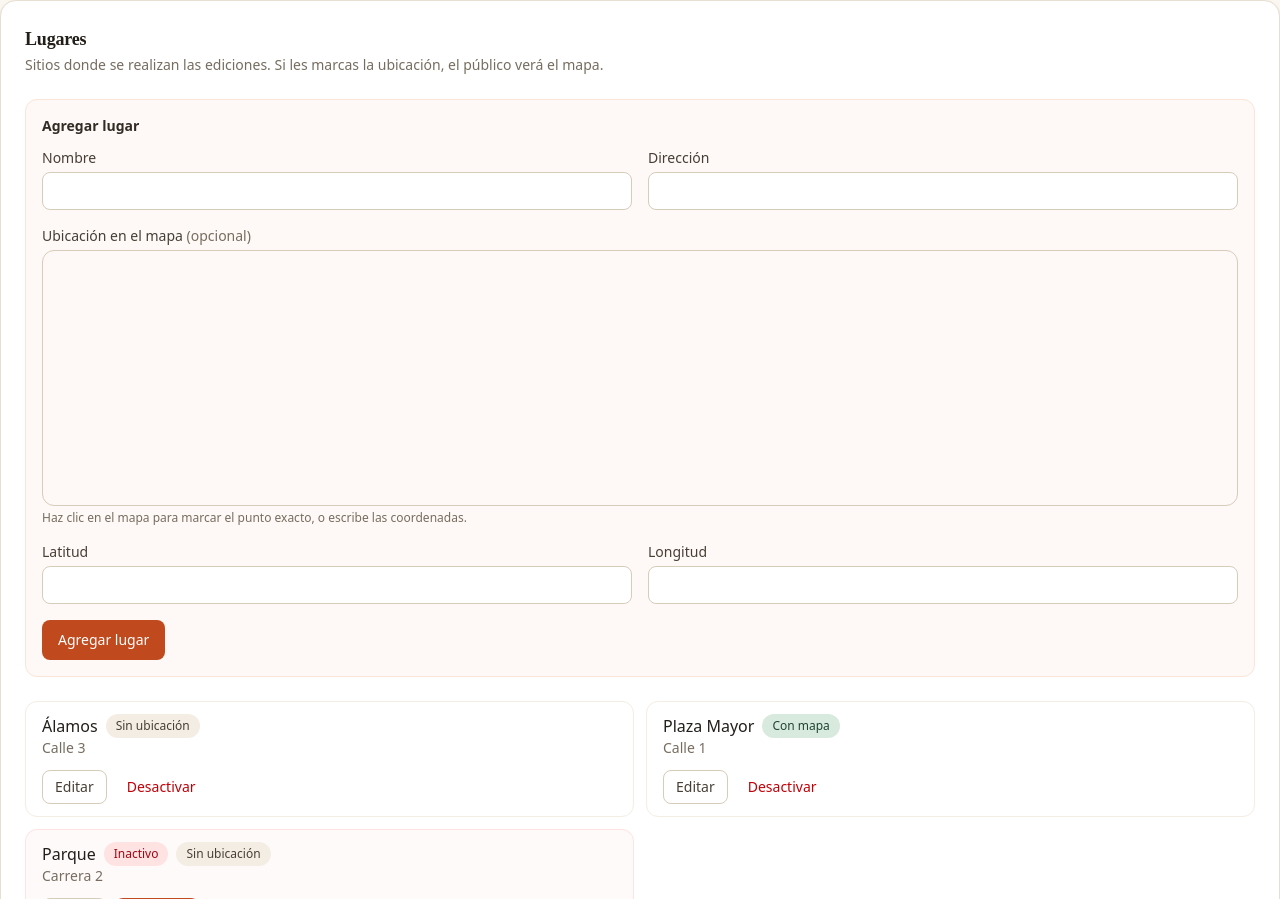
GestionLugares: editar › carga el lugar en el formulario y lo desplaza a la vista
This screenshot has width=1280, height=899.
Click the button with aria-label "Editar Plaza Mayor": click(695, 787) [663,770,728,804]
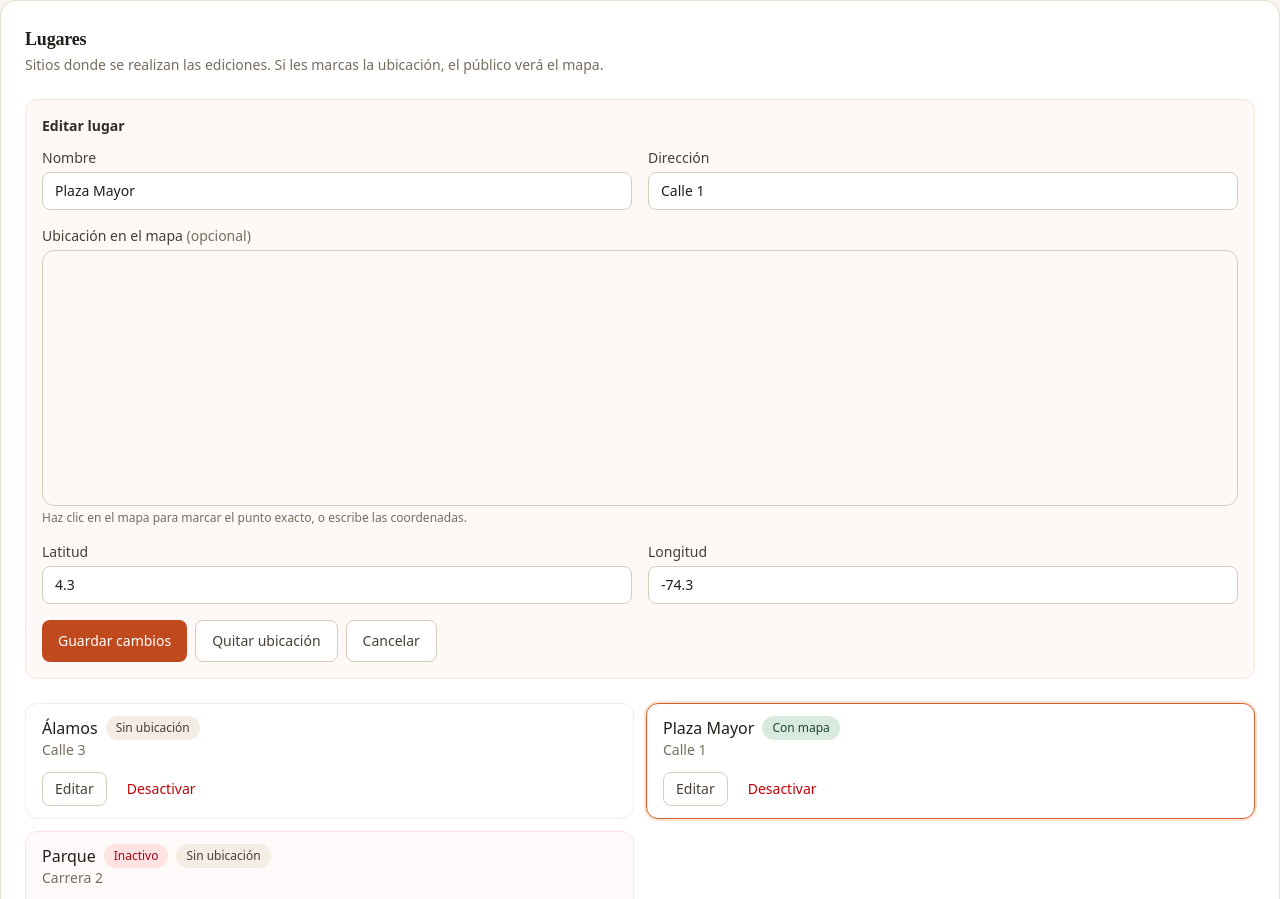
Now the heading "Editar lugar" is shown, box [42,116,125,135]
Now the field labelled "Nombre" holds "Plaza Mayor", box [42,172,632,210]
Now the number field labelled "Latitud" holds "4.3", box [42,566,632,604]
